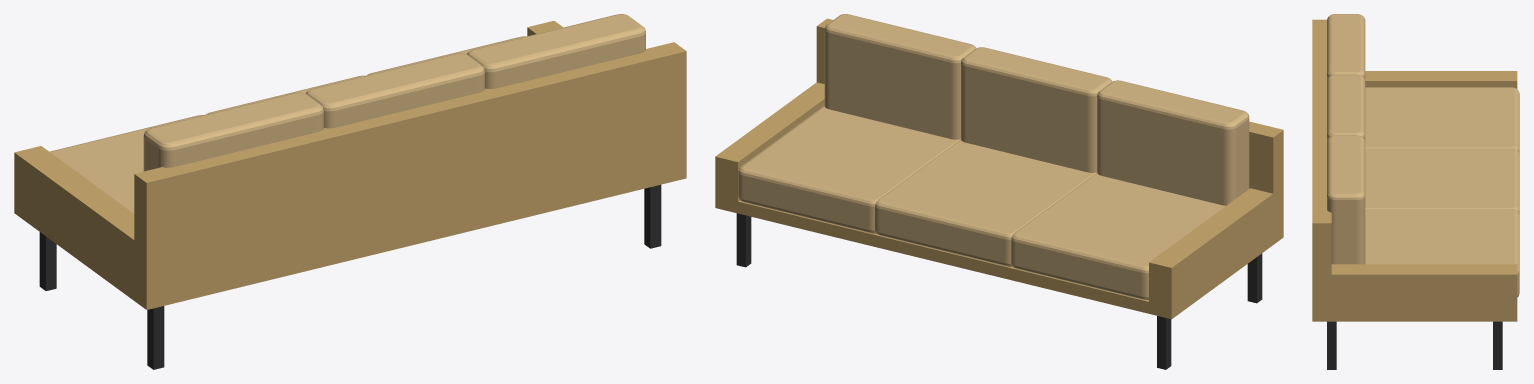
3 views of the same model, side by side, from view 1: azimuth 30°, elevation 25°; view 2: azimuth 150°, elevation 25°; view 3: azimuth 270°, elevation 25° (orthographic). The views are drawn at different scales.
Bounding box in the file's own units: 2 × 0.78 × 0.86.
